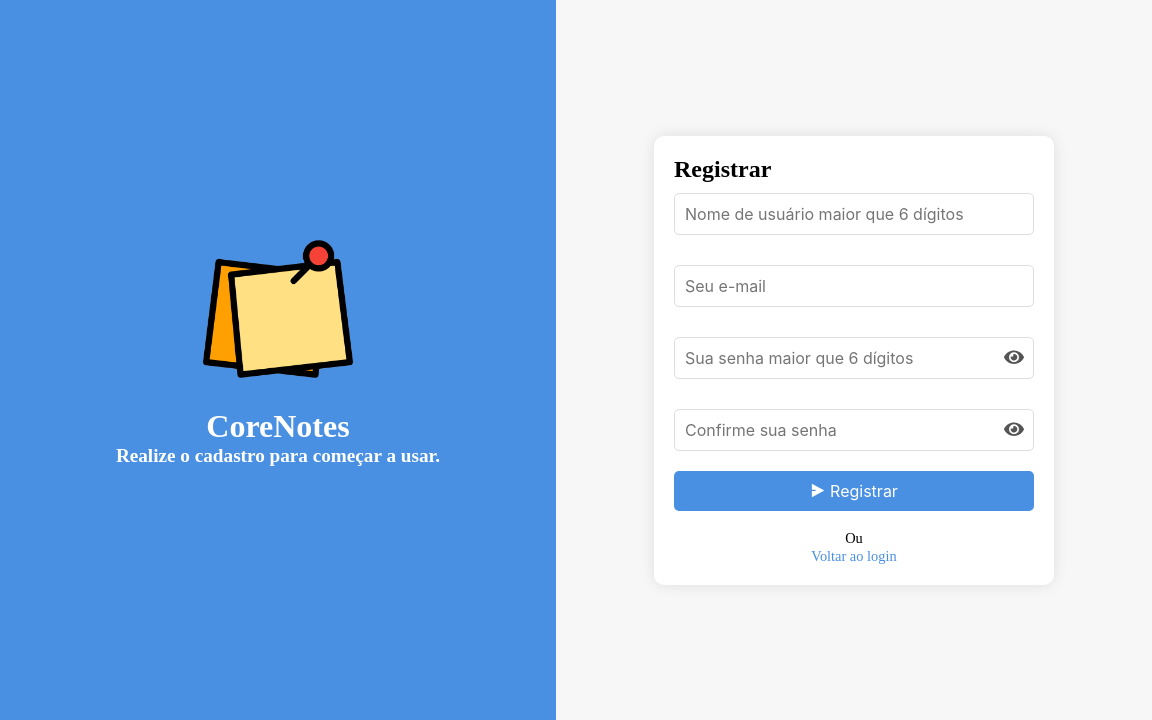
Test: SignUp › deve exibir mensagens de erro para campos inválidos
// Enviar o formulário sem preencher os campos
Click the button with test id "submit-button": {"x": 854, "y": 490} [674,470,1034,510]
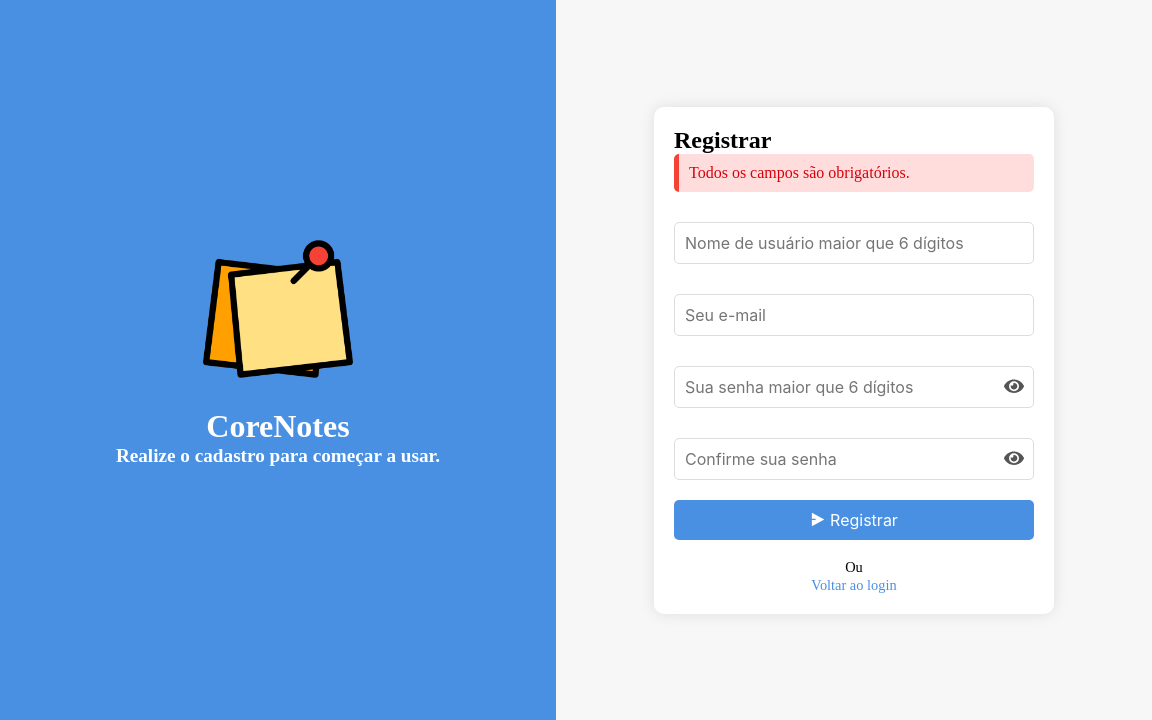
Expected: the text "Todos os campos são obrigatórios." is shown, [674,154,1034,192]
// Preencher o formulário com senhas diferentes
In the field with placeholder "Nome de usuário maior que 6 dígitos": {"x": 854, "y": 242} [674,222,1034,264], type "testuser"
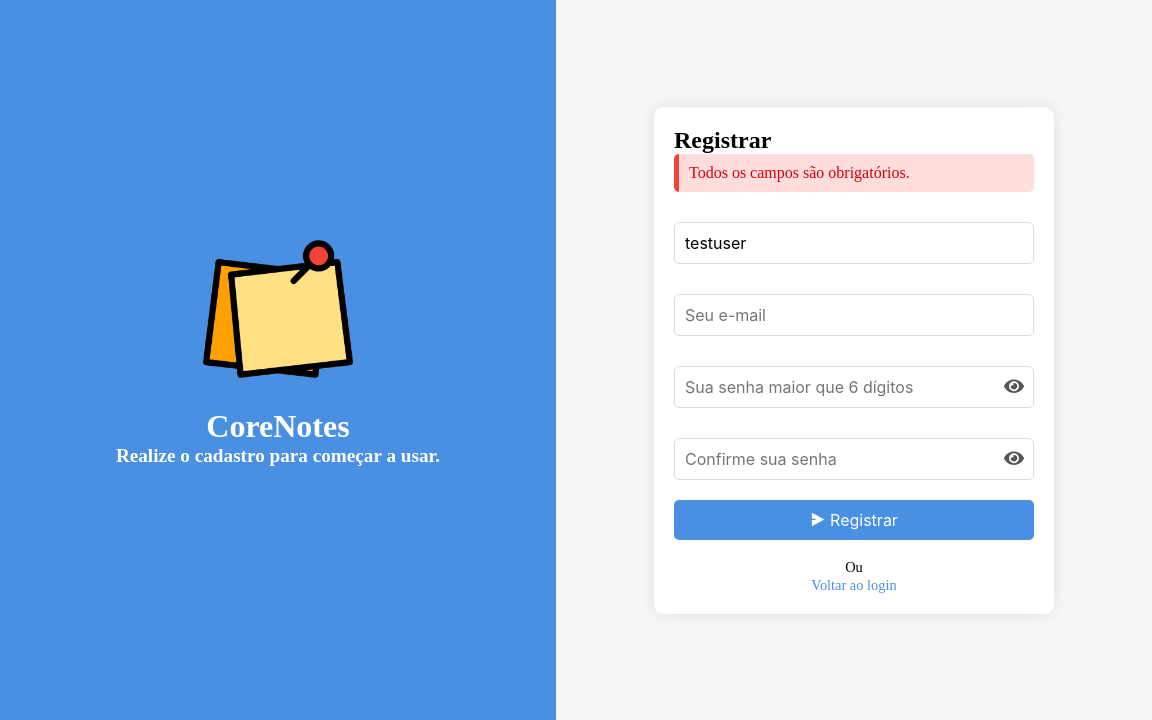
In the field with placeholder "Seu e-mail": {"x": 854, "y": 314} [674,294,1034,336], type "testuser@example.com"
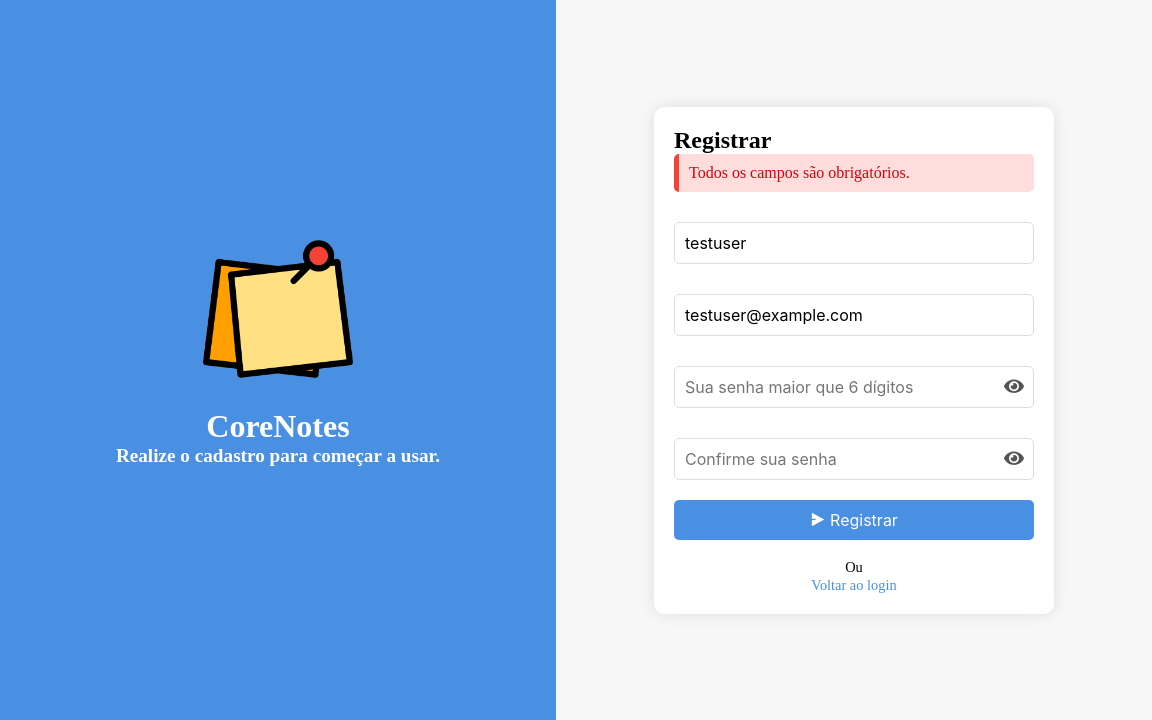
In the password field with placeholder "Sua senha maior que 6 dígitos": {"x": 854, "y": 386} [674,366,1034,408], type "password123"
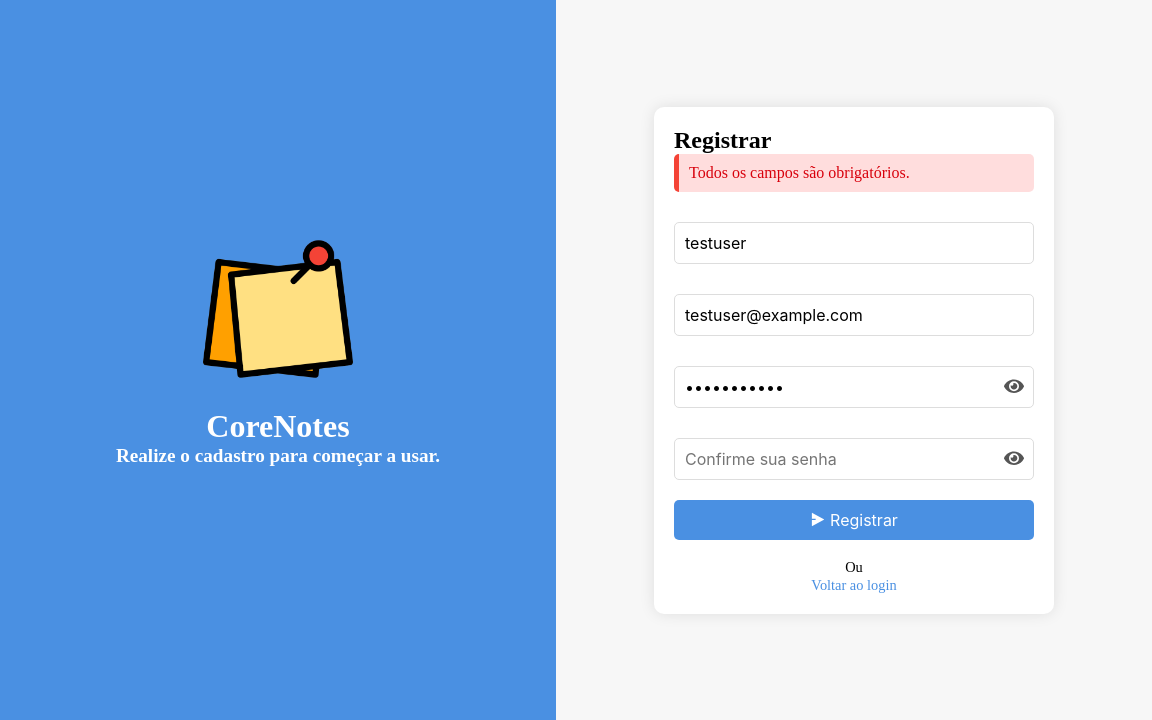
In the password field with placeholder "Confirme sua senha": {"x": 854, "y": 458} [674,438,1034,480], type "differentpassword"
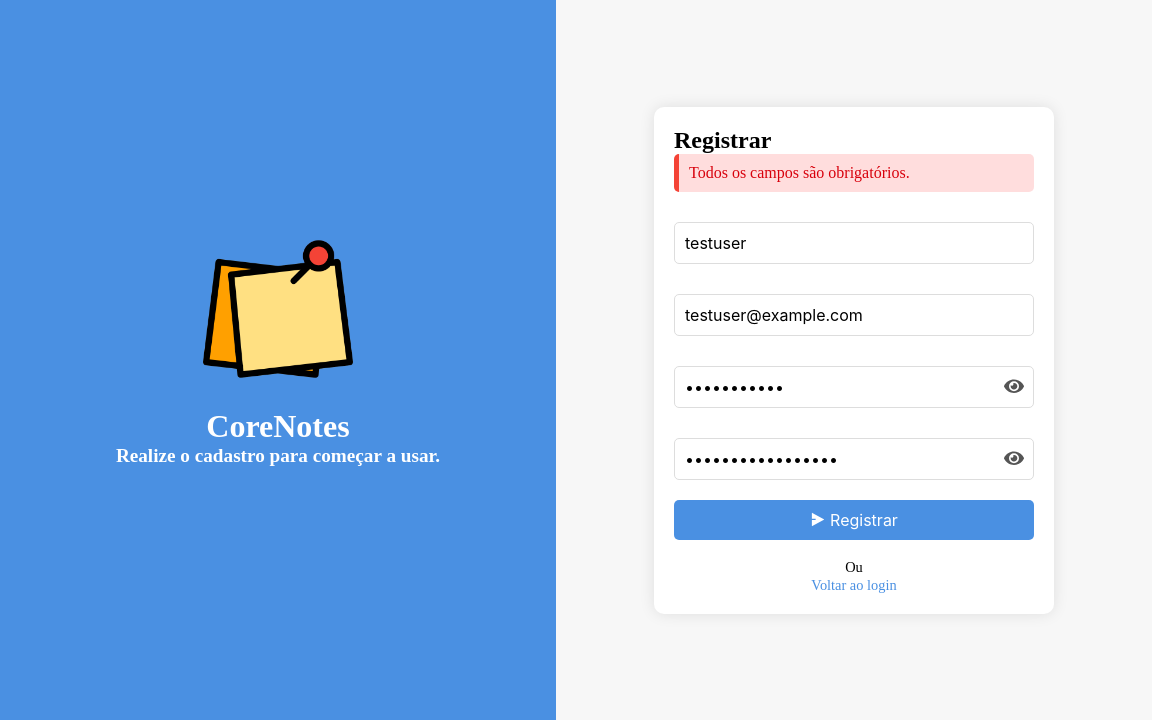
// Enviar o formulário
Click the button with test id "submit-button": {"x": 854, "y": 520} [674,500,1034,540]
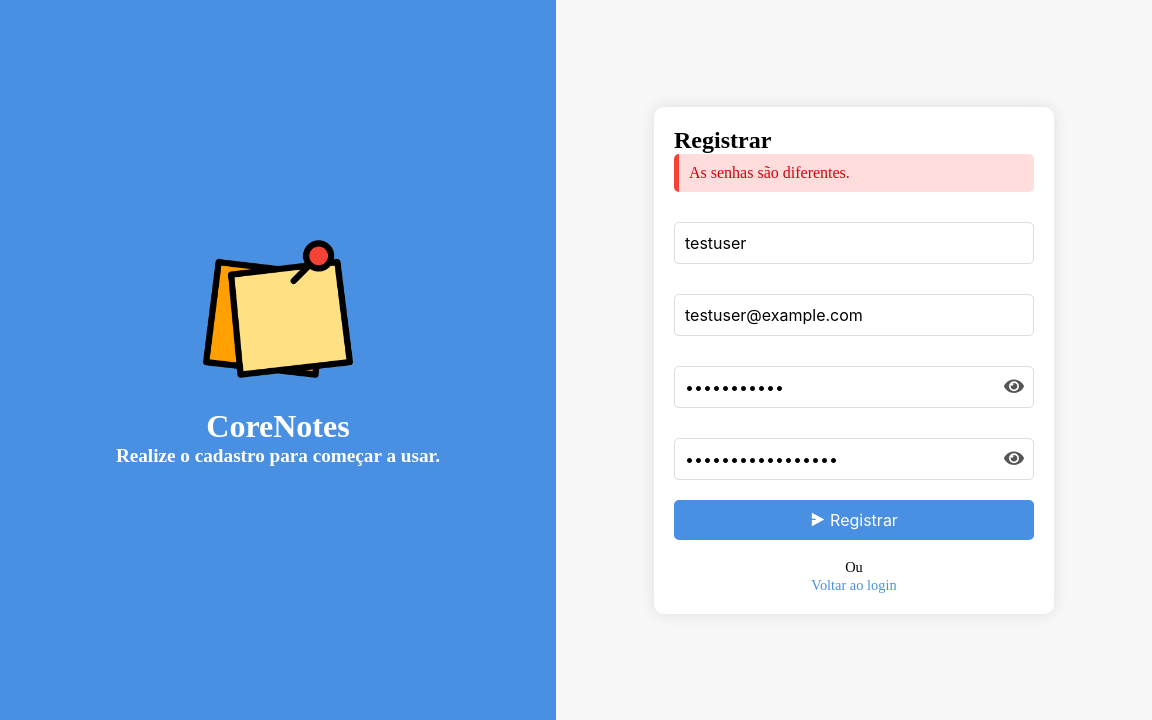
Expected: the text "As senhas são diferentes." is shown, [674,154,1034,192]
